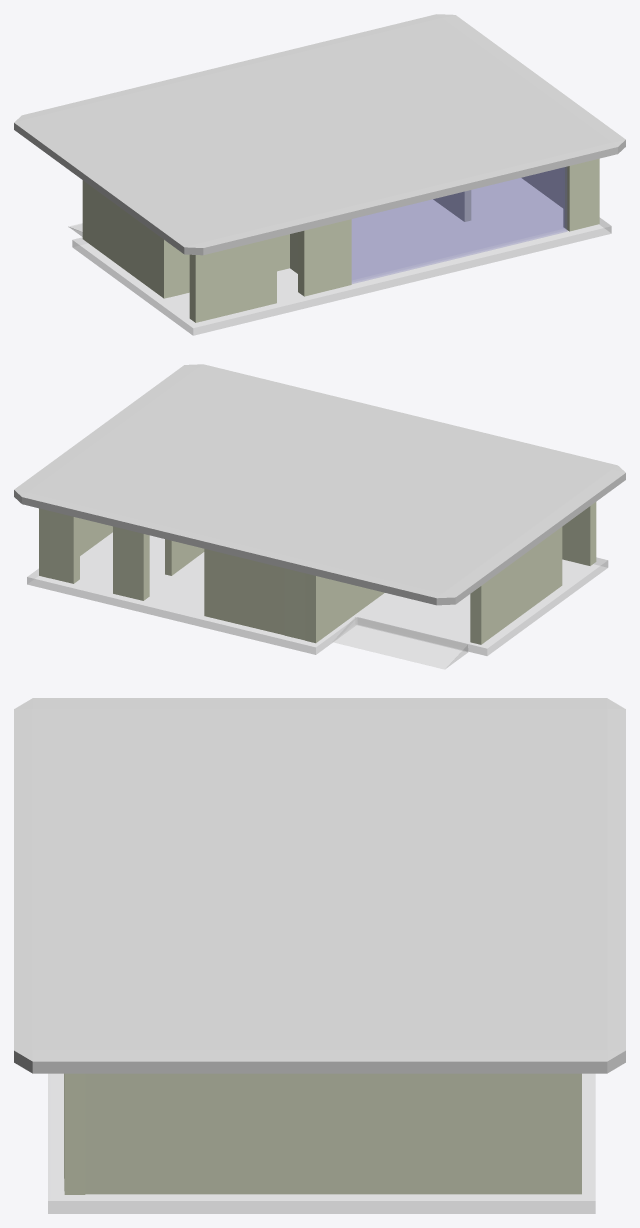
File: building120.glb
The picture shows the model from 3 angles, top to bottom: view 1: azimuth 30°, elevation 25°; view 2: azimuth 150°, elevation 25°; view 3: azimuth 270°, elevation 25°; orthographic projection. The views are drawn at different scales.
Visible parts, largest first — view 1: roof, floor, Walls, backyard-glass; view 2: roof, Walls, floor, Cube; view 3: roof, Walls, floor.
Part boxes in pixels (x1=…): roof: x1=14, y1=14, x2=625, y2=255; floor: x1=72, y1=178, x2=611, y2=335; Walls: x1=82, y1=158, x2=599, y2=322; backyard-glass: x1=352, y1=167, x2=567, y2=283; roof: x1=14, y1=364, x2=625, y2=605; Walls: x1=39, y1=502, x2=596, y2=644; floor: x1=27, y1=532, x2=608, y2=655; Cube: x1=333, y1=617, x2=468, y2=669; roof: x1=14, y1=698, x2=625, y2=1073; Walls: x1=64, y1=1073, x2=581, y2=1194; floor: x1=48, y1=1073, x2=595, y2=1213.
Bounding box in the file's own units: 15.42 × 3.22 × 10.97.
